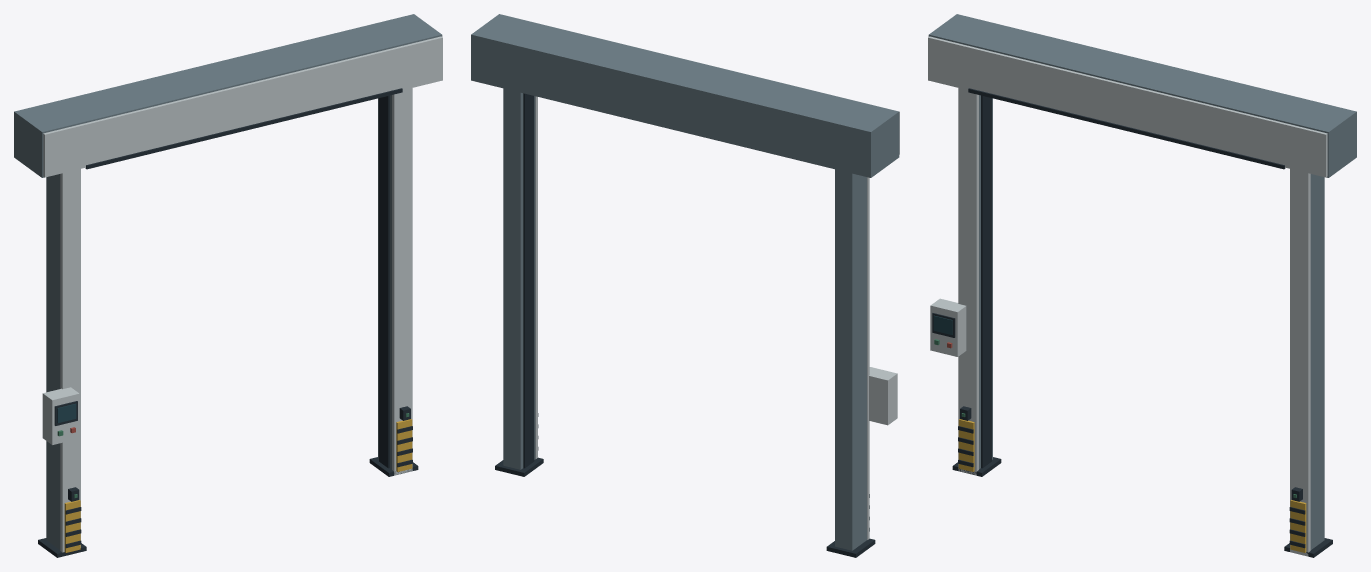
Rendered from quick-shutter-open.glb.
3 renders of one model, left to right at view 1: azimuth 30°, elevation 25°; view 2: azimuth 150°, elevation 25°; view 3: azimuth 330°, elevation 25°, orthographic.
Parts seen in each view (by area): view 1: quick-shutter-frame-surface (×3), quick-shutter-operator-panel-surface, quick-shutter-frame-warning; view 2: quick-shutter-frame-surface (×3), quick-shutter-operator-panel-surface; view 3: quick-shutter-frame-surface (×3), quick-shutter-operator-panel-surface, quick-shutter-frame-warning.
Boxes of the visible parts, x1=… form: quick-shutter-frame-surface (×3): x1=14, y1=14, x2=442, y2=557; quick-shutter-operator-panel-surface: x1=42, y1=387, x2=79, y2=444; quick-shutter-frame-warning: x1=64, y1=419, x2=412, y2=552; quick-shutter-frame-surface (×3): x1=471, y1=14, x2=899, y2=557; quick-shutter-operator-panel-surface: x1=869, y1=367, x2=897, y2=425; quick-shutter-frame-surface (×3): x1=928, y1=14, x2=1356, y2=557; quick-shutter-operator-panel-surface: x1=930, y1=298, x2=966, y2=356; quick-shutter-frame-warning: x1=958, y1=419, x2=1306, y2=552.
Size of the model in its own units: 4.1 by 4.25 by 0.602.
